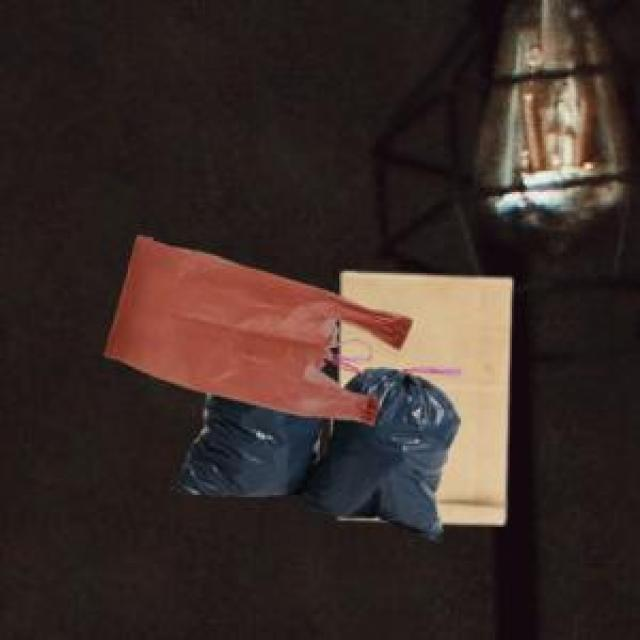miscellaneous trash: (169, 352, 457, 536)
paper: (337, 269, 508, 521)
